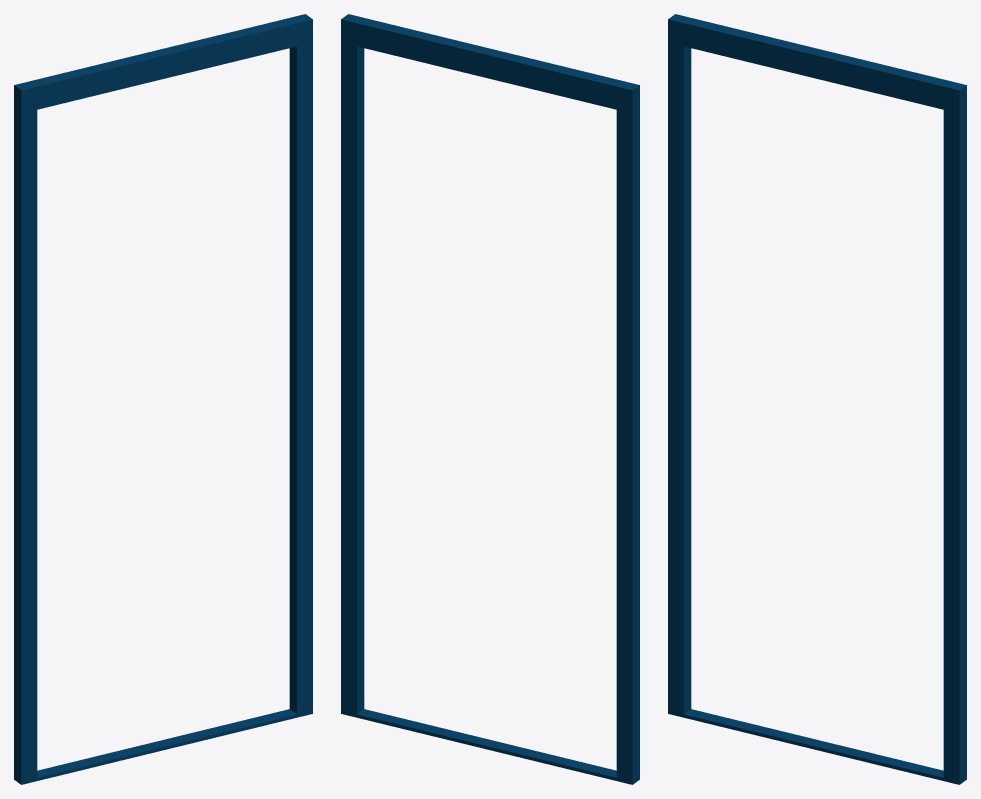
The model's file is frame_1.3dxml.glb.
3 renders of one model, left to right at view 1: azimuth 30°, elevation 25°; view 2: azimuth 150°, elevation 25°; view 3: azimuth 330°, elevation 25°, orthographic.
Visible parts, largest first — view 1: frame; view 2: frame; view 3: frame.
Boxes of the visible parts, bbox=[...] form: frame: bbox=[14, 14, 312, 784]; frame: bbox=[341, 14, 639, 784]; frame: bbox=[668, 14, 966, 784].
Bounding box in the file's own units: 0.92 × 2.09 × 0.04.
